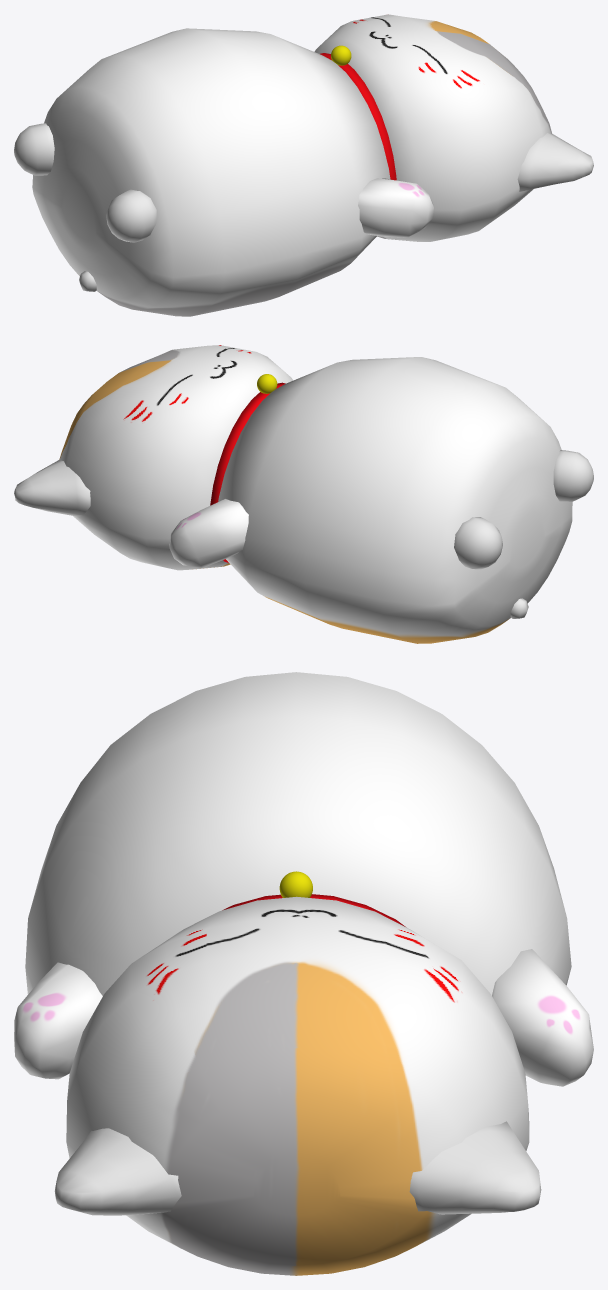
File: nyanko3_0313.gltf
3 renders of one model, top to bottom at view 1: azimuth 30°, elevation 25°; view 2: azimuth 150°, elevation 25°; view 3: azimuth 270°, elevation 25°, orthographic. The views are drawn at different scales.
Visible parts, largest first — view 1: body, head, lefthand, leftear, leftreg, rightreg, Circle; view 2: body, head, righthand, rightear, rightreg, leftreg, Circle; view 3: head, body, righthand, rightear, leftear, lefthand.
Boxes of the visible parts, <box> form: body: <box>32,28,390,316</box>; head: <box>314,14,551,241</box>; lefthand: <box>358,178,433,237</box>; leftear: <box>517,133,593,191</box>; leftreg: <box>106,189,156,242</box>; rightreg: <box>14,123,54,175</box>; Circle: <box>320,53,396,180</box>; body: <box>218,357,572,643</box>; head: <box>59,345,292,570</box>; righthand: <box>169,499,248,568</box>; rightear: <box>14,460,90,516</box>; rightreg: <box>454,517,502,569</box>; leftreg: <box>553,450,593,501</box>; Circle: <box>210,382,285,562</box>; head: <box>66,896,529,1275</box>; body: <box>25,672,571,995</box>; righthand: <box>492,949,593,1086</box>; rightear: <box>409,1121,541,1214</box>; leftear: <box>54,1128,181,1215</box>; lefthand: <box>14,962,102,1079</box>.
Bounding box in the file's own units: 4.78 × 2.41 × 3.17.
Materials: 11 (4 with a texture image).
